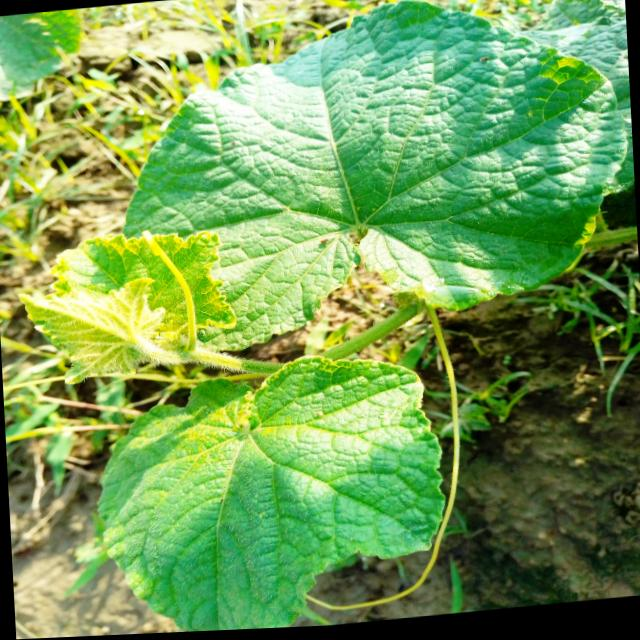Fresh-Leaf: (123, 0, 633, 351), (96, 354, 446, 632)
